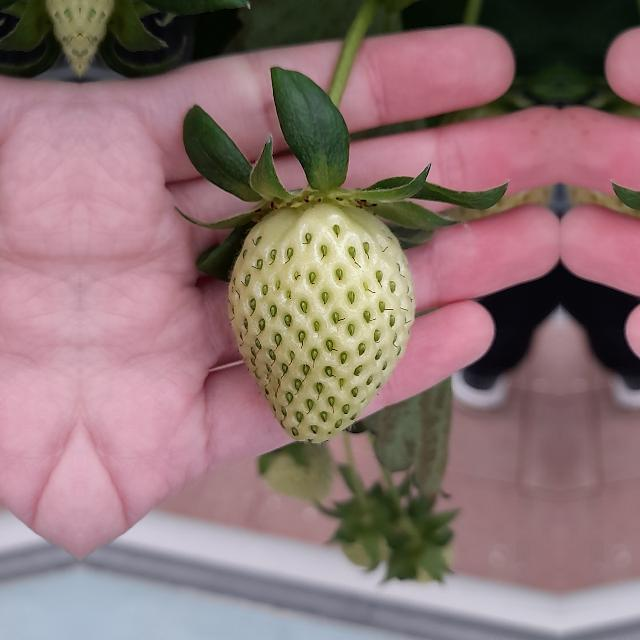Health_25: (228, 203, 414, 443)
